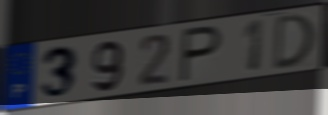1: (242, 17, 264, 75)
2: (136, 32, 172, 89)
3: (39, 44, 82, 103)
9: (90, 38, 126, 94)
D: (271, 11, 317, 73)
P: (177, 24, 224, 85)
